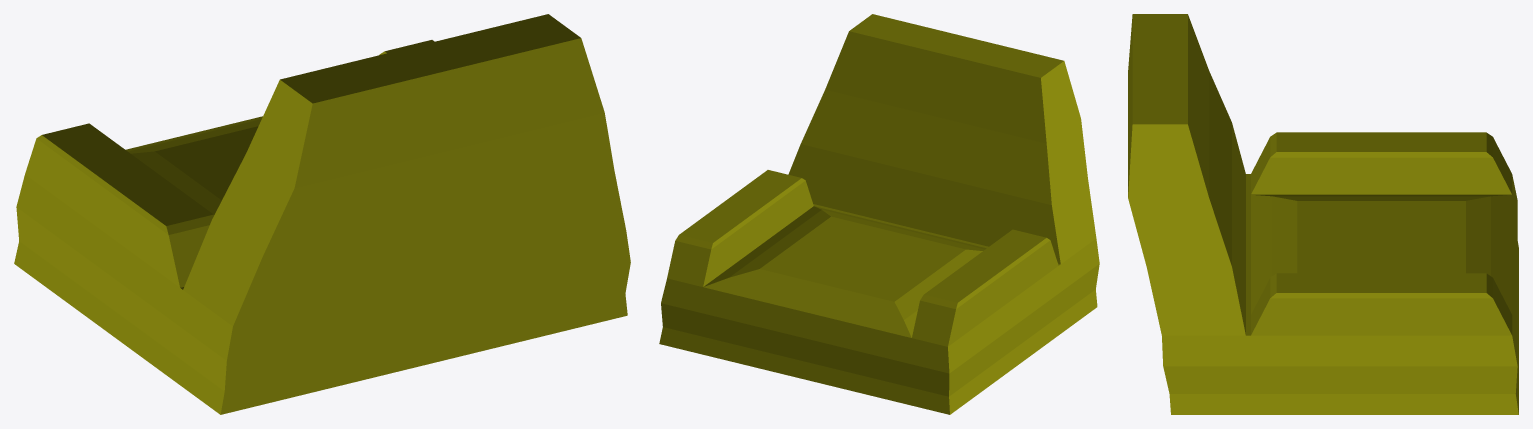
File: Armchair.fbx
3 renders of one model, left to right at view 1: azimuth 30°, elevation 25°; view 2: azimuth 150°, elevation 25°; view 3: azimuth 270°, elevation 25°, orthographic. The views are drawn at different scales.
Parts seen in each view (by area): view 1: Node 0; view 2: Node 0; view 3: Node 0.
Part boxes in pixels (x1=…): Node 0: x1=14, y1=14, x2=630, y2=414; Node 0: x1=659, y1=14, x2=1099, y2=414; Node 0: x1=1128, y1=14, x2=1518, y2=414.
Bounding box in the file's own units: 0.8852 × 0.6551 × 0.897.
